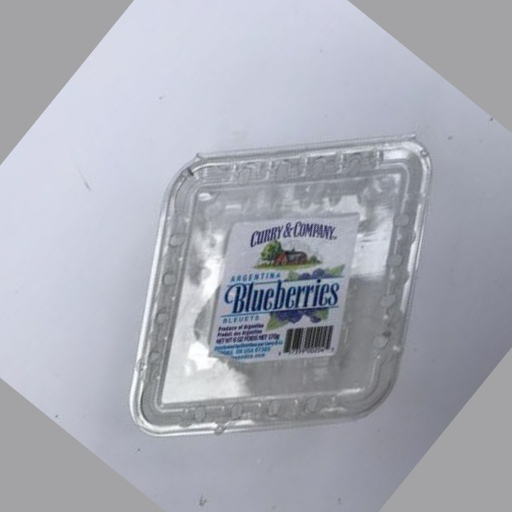Plastic_4: (131, 137, 435, 428)
